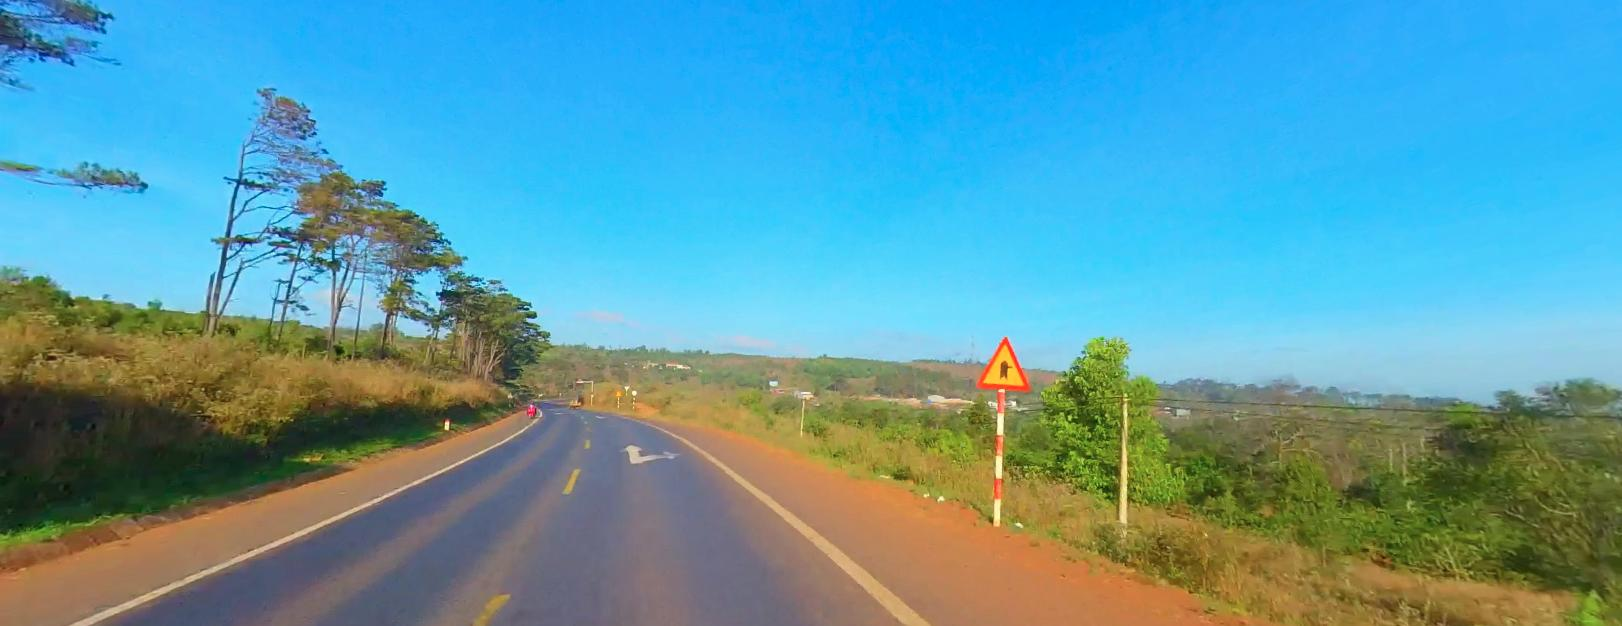Nguy hiem: (975, 335, 1031, 390), (615, 389, 622, 395)
